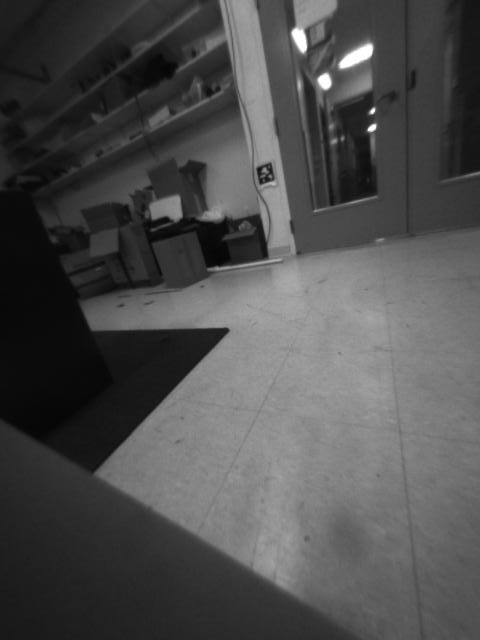door_handle: (371, 88, 401, 106)
